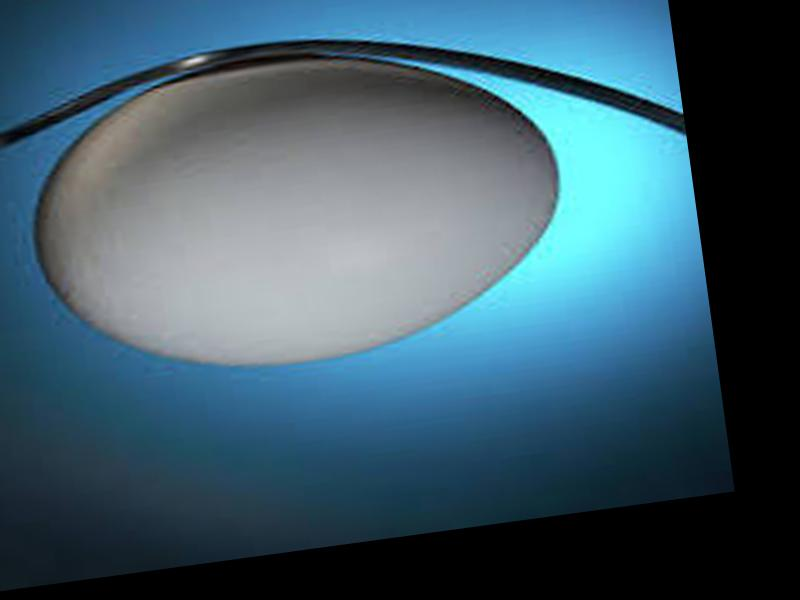Eggs: (16, 25, 578, 391)
